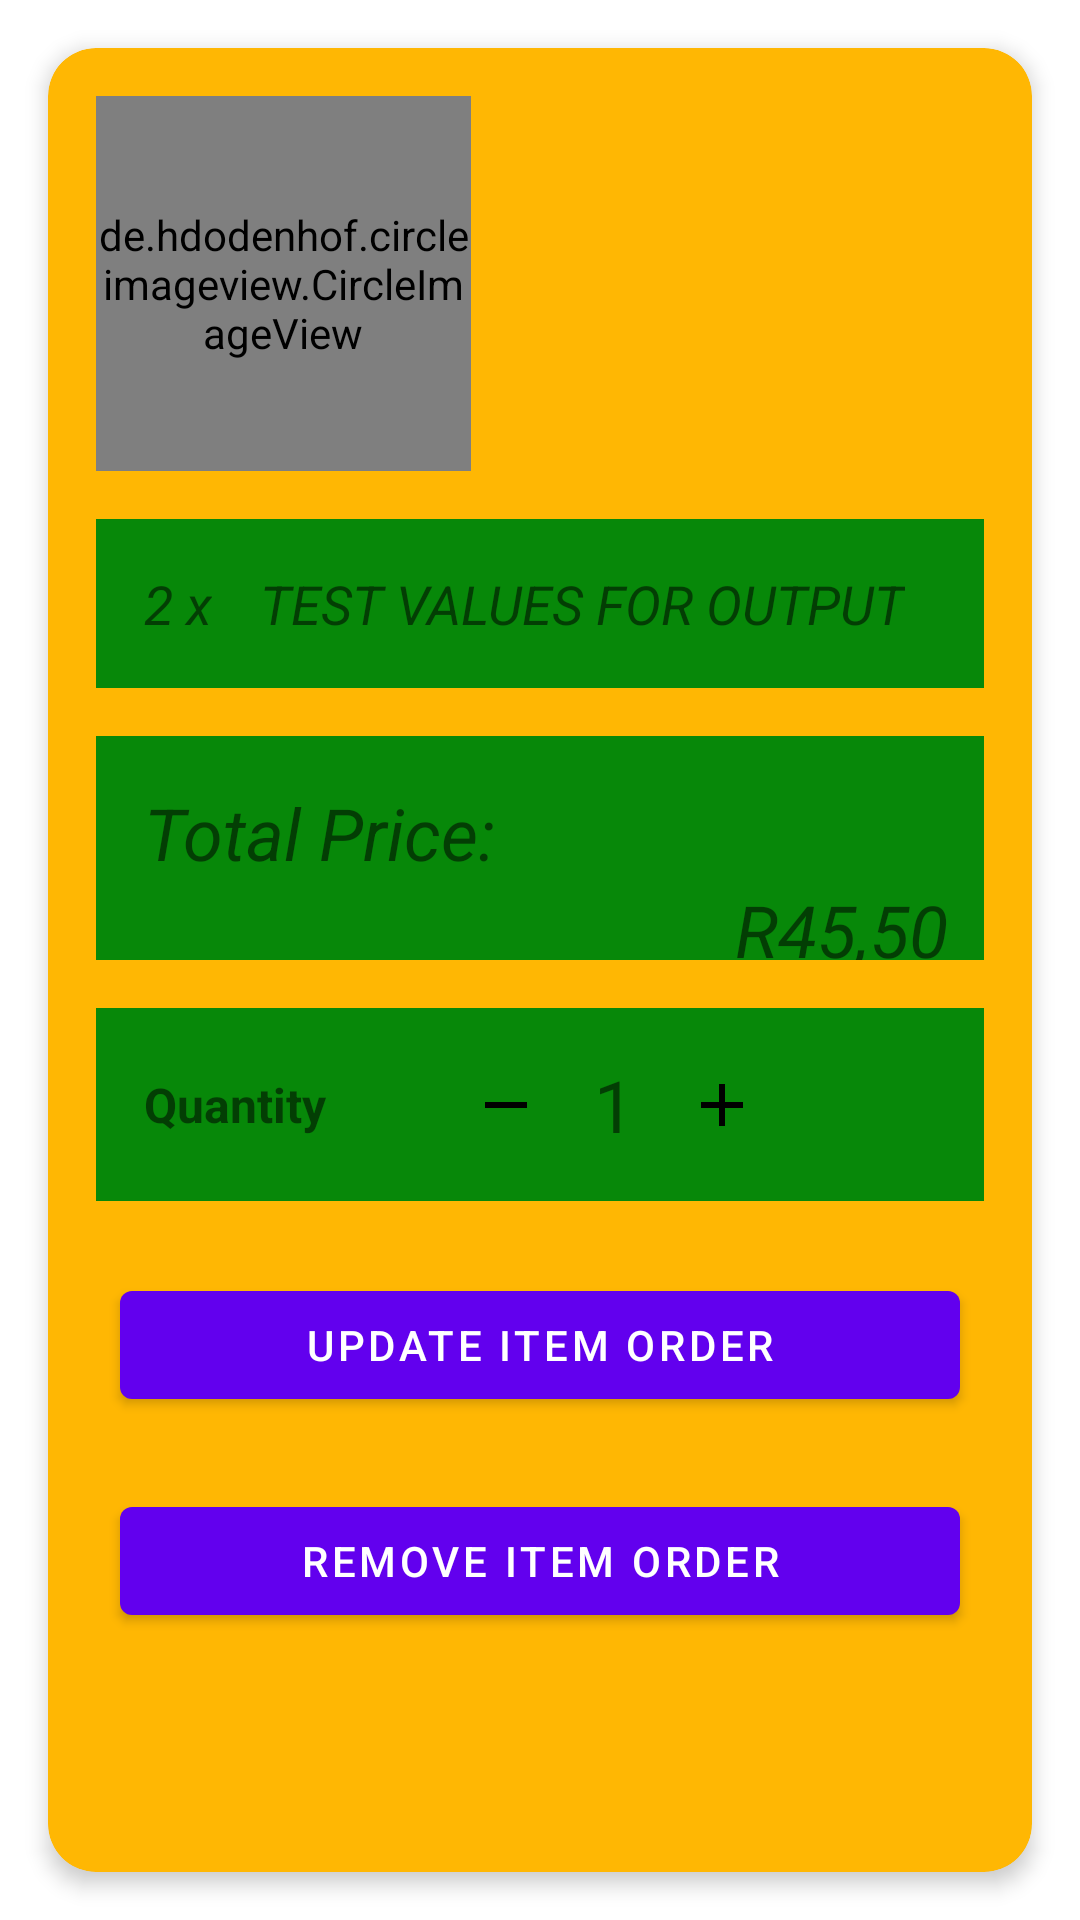

Screen size 1080 x 1920. Icon name, then its center in pixels as [x,y]:
add: [722,1105]
